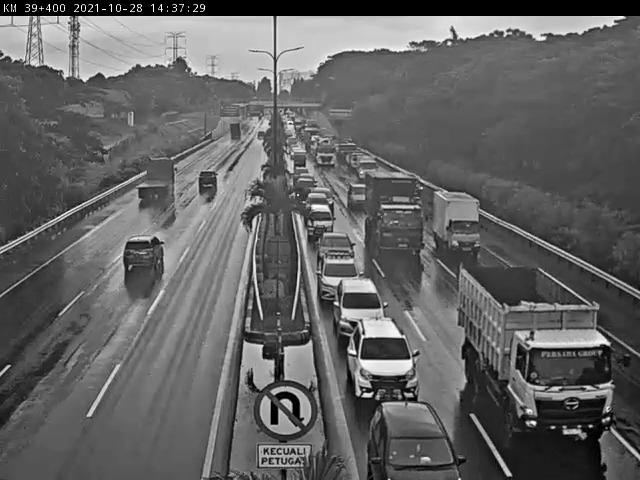big truck: (459, 264, 631, 441), (366, 171, 425, 260), (138, 159, 177, 205)
car: (365, 399, 465, 480), (346, 317, 420, 402), (333, 276, 384, 340), (318, 257, 364, 304), (122, 237, 166, 274), (317, 234, 355, 269), (304, 203, 333, 239), (193, 171, 219, 193)
small truck: (431, 192, 481, 258)
